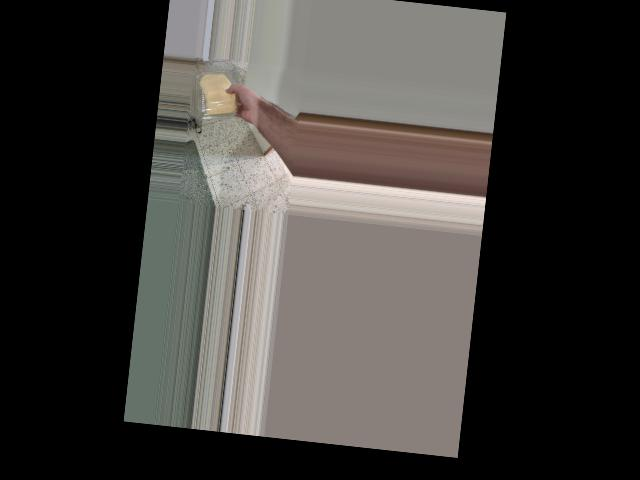cheese: (192, 69, 242, 122)
